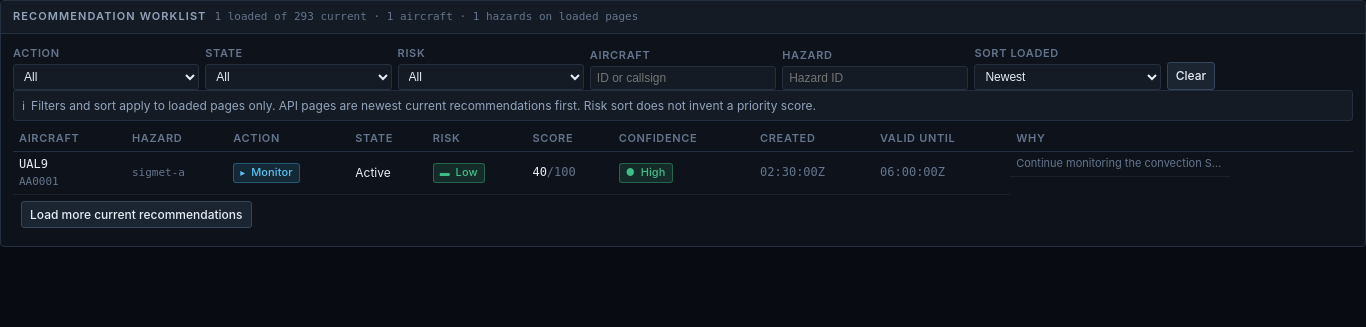
Test: RecommendationWorklist › surfaces a pagination failure without dropping the loaded page
Click the button "Load more current recommendations": (136, 214) [21,200,252,228]
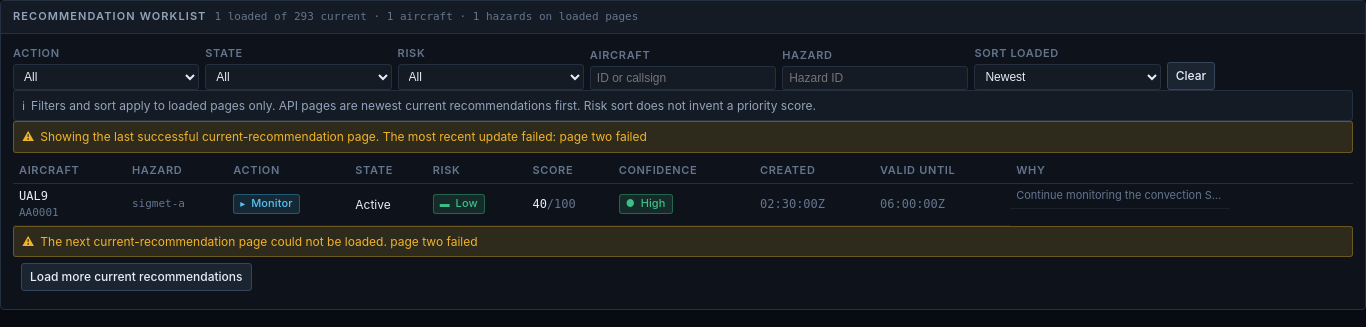
Expected: the text "UAL9" is shown, [19,189,48,203]
Now the text "The next current-recommendation page could not be loaded" is shown, box [40,234,387,249]
